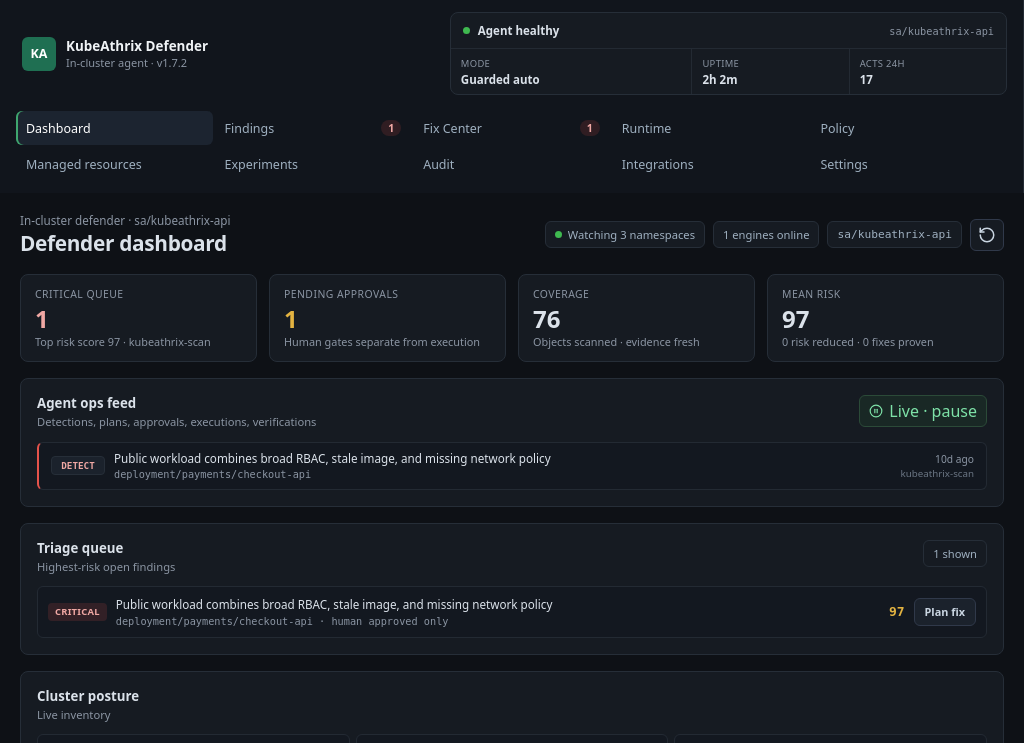
KubeAthrix console › creates a typed remediation plan from the findings workflow
Click the button "Findings 1": (313, 128) [215, 111, 411, 145]
(page scrolled)
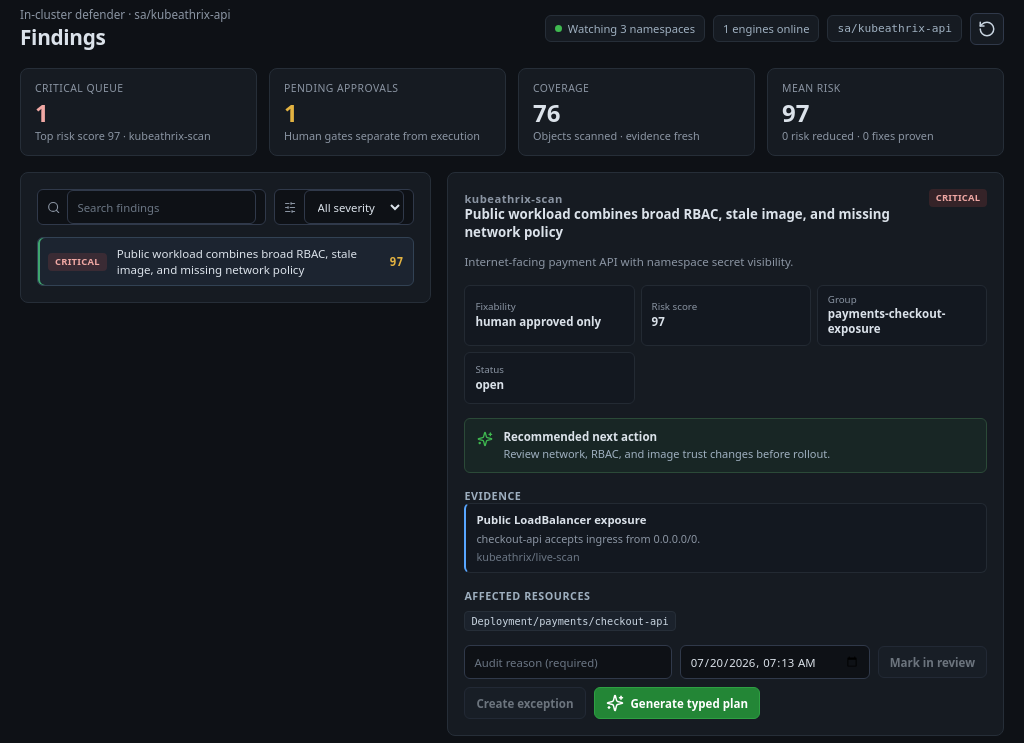
Click the button "Generate typed plan": (677, 703) [594, 687, 760, 719]
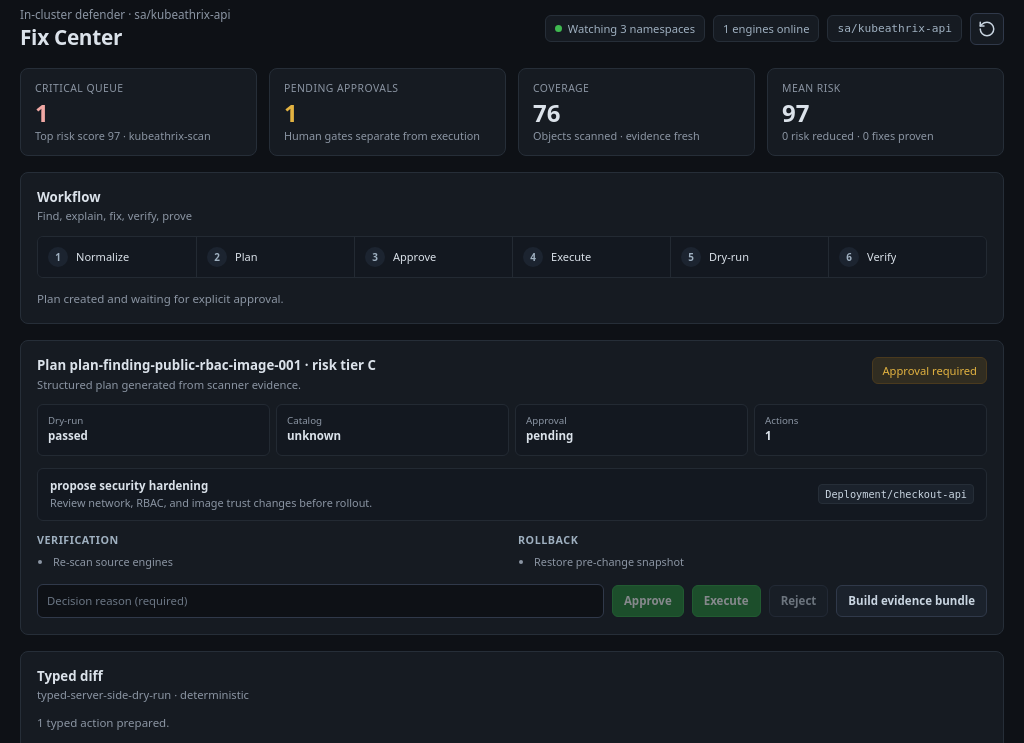
Expected: the text "Find, explain, fix, verify, prove" is shown, [37, 208, 192, 224]
Expected: the text "Approval required" is shown, [872, 357, 987, 384]
